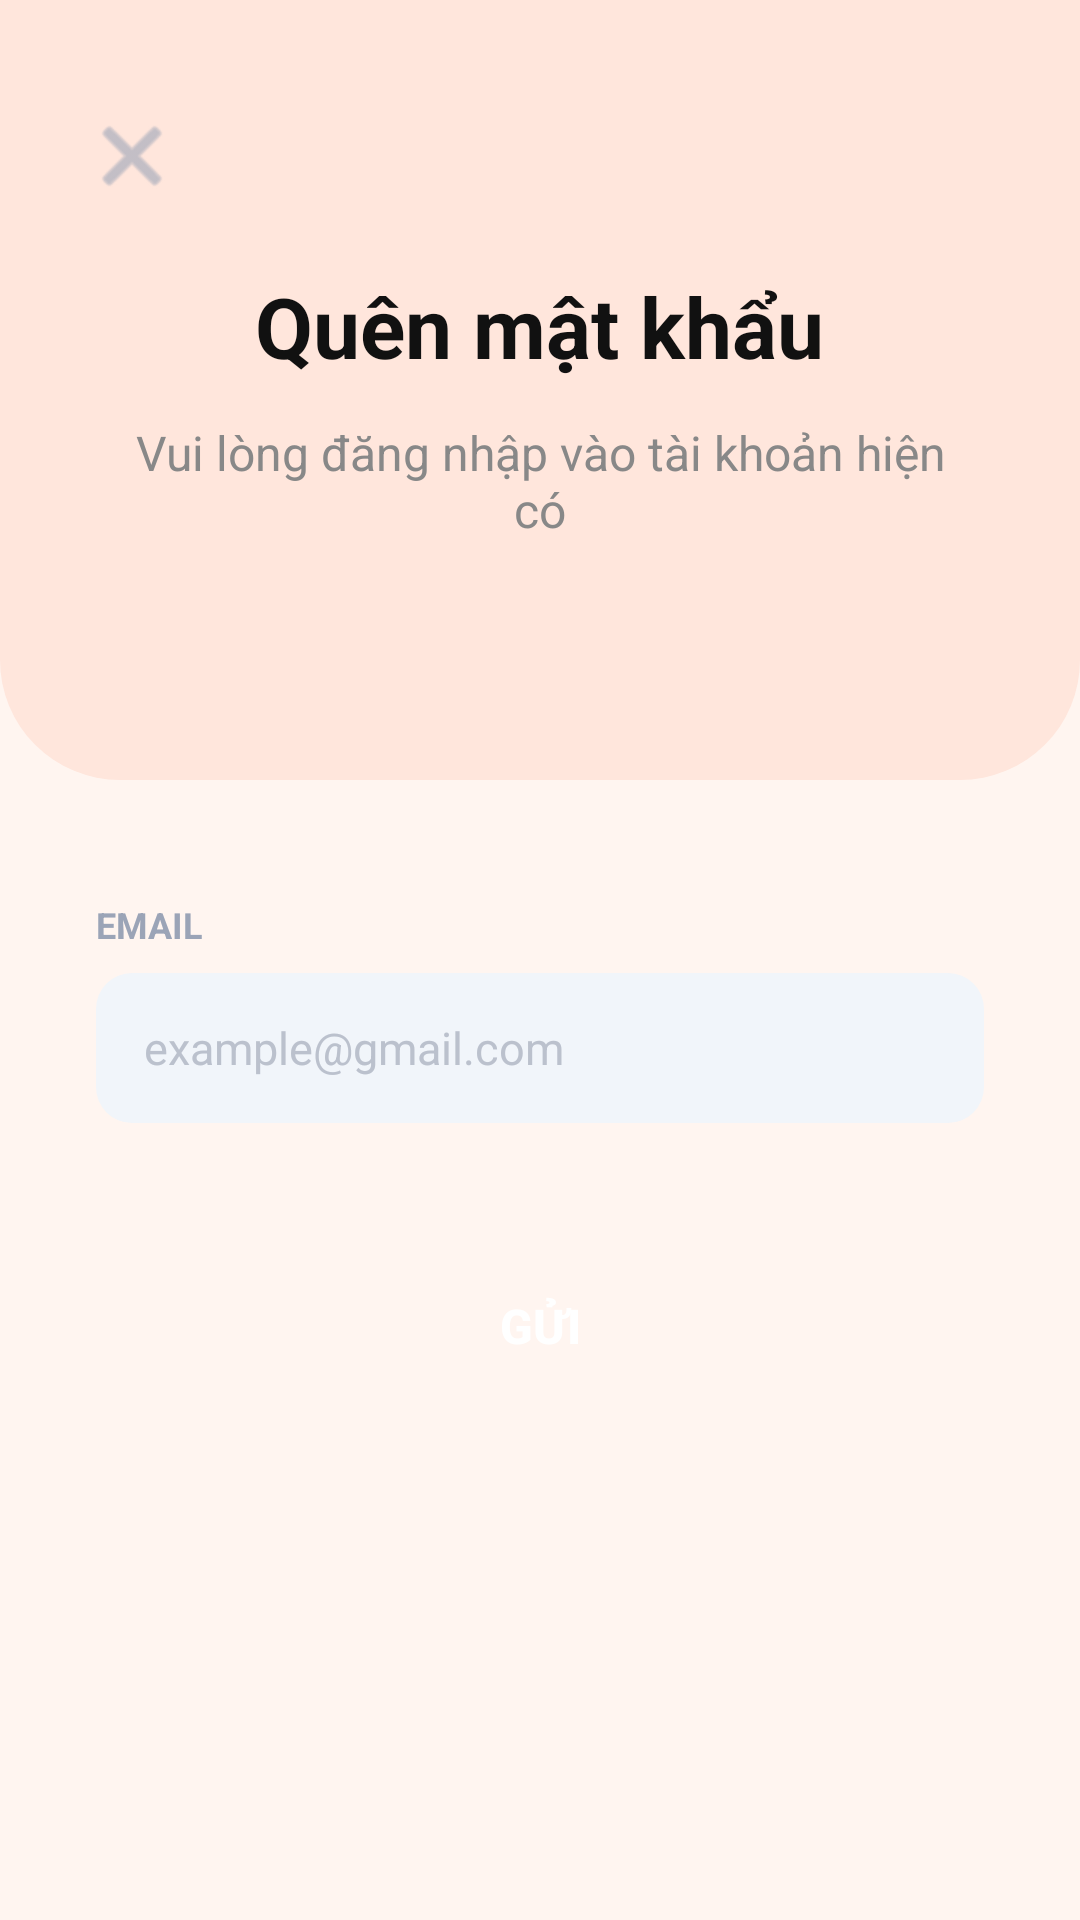

Screen size 1080w x 1920h. Icon name, then its box in pixels as (x1, y1, x2, y2):
Quay lại: (103, 127, 161, 185)
